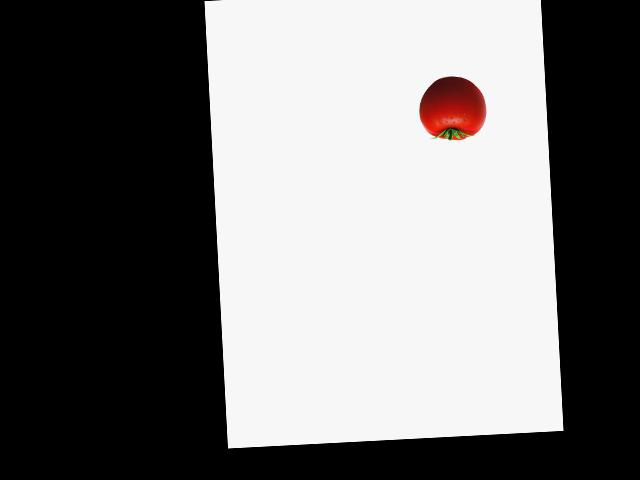tomato: (417, 75, 480, 142)
